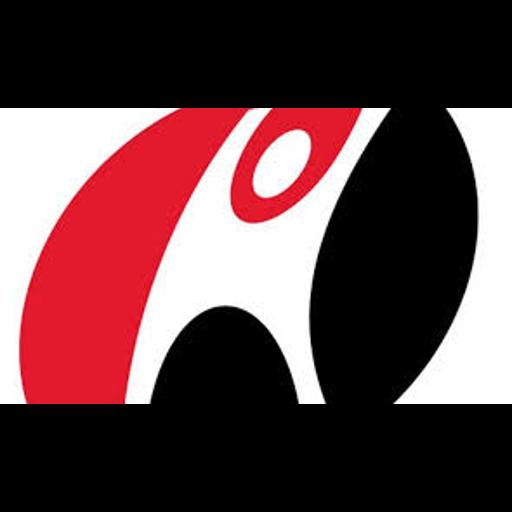Rackspace: (0, 108, 512, 404)
